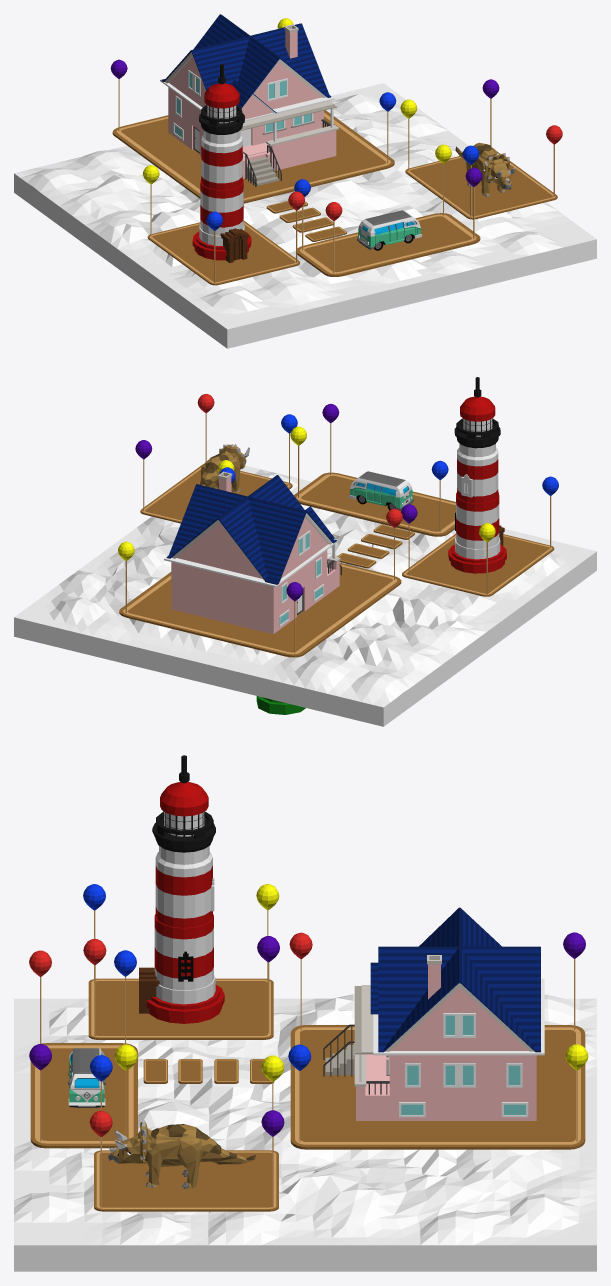
The picture shows the model from 3 angles, top to bottom: view 1: azimuth 30°, elevation 25°; view 2: azimuth 150°, elevation 25°; view 3: azimuth 270°, elevation 25°; orthographic projection. The views are drawn at different scales.
Visible parts, largest first — view 1: Cube.013, Cube.313, OBJRANDOM_LIGHTHOUSE, VEHICLES_VAN, ANIMAL_Triceratops; view 2: Cube.013, Cube.313, OBJRANDOM_LIGHTHOUSE, VEHICLES_VAN, ANIMAL_Triceratops, UNDERGROUND_PIPES; view 3: Cube.013, Cube.313, OBJRANDOM_LIGHTHOUSE, ANIMAL_Triceratops, VEHICLES_VAN.
Part boxes in pixels (box(x1,y1,x2,y2)): Cube.013: box(14, 18, 596, 348); Cube.313: box(160, 14, 338, 186); OBJRANDOM_LIGHTHOUSE: box(192, 64, 251, 262); VEHICLES_VAN: box(357, 210, 422, 250); ANIMAL_Triceratops: box(455, 142, 515, 196); Cube.013: box(14, 394, 596, 726); Cube.313: box(164, 471, 341, 634); OBJRANDOM_LIGHTHOUSE: box(448, 377, 506, 573); VEHICLES_VAN: box(348, 471, 413, 510); ANIMAL_Triceratops: box(200, 444, 249, 492); UNDERGROUND_PIPES: box(256, 696, 305, 714); Cube.013: box(14, 884, 596, 1271); Cube.313: box(323, 907, 544, 1120); OBJRANDOM_LIGHTHOUSE: box(139, 755, 224, 1023); ANIMAL_Triceratops: box(108, 1120, 256, 1188); VEHICLES_VAN: box(68, 1048, 105, 1107).
Bounding box in the file's own units: 4000 × 2984 × 4000.
Materials: 41 (1 with a texture image).
